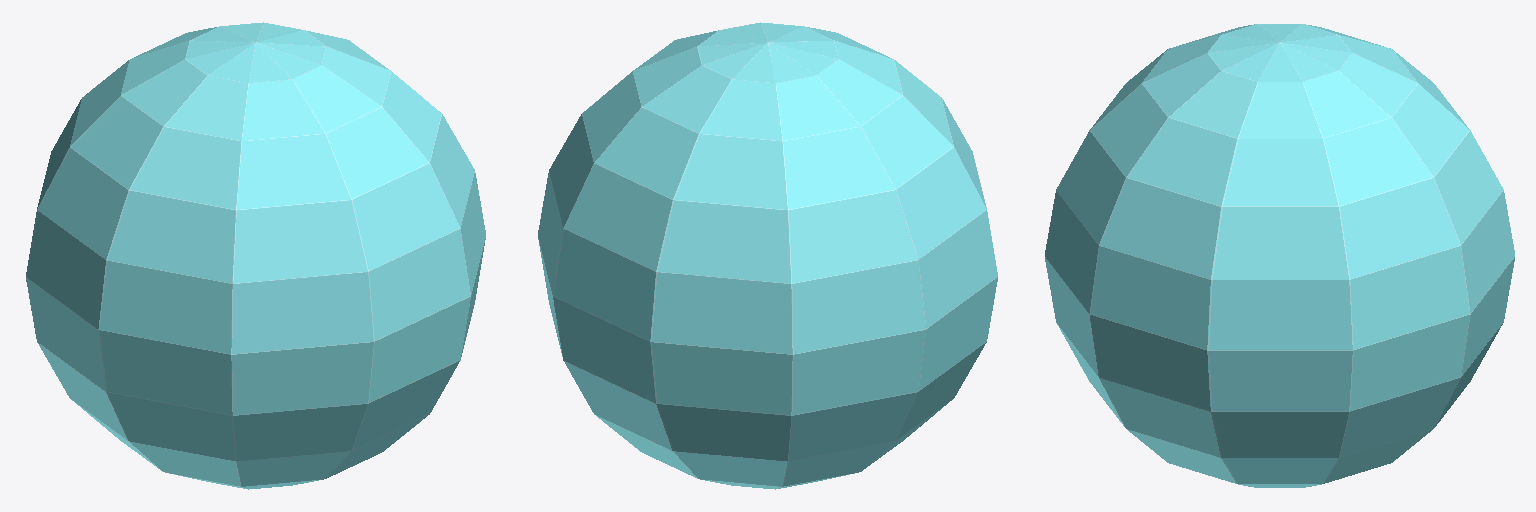
3 views of the same model, side by side, from view 1: azimuth 30°, elevation 25°; view 2: azimuth 150°, elevation 25°; view 3: azimuth 270°, elevation 25° (orthographic).
Parts seen in each view (by area): view 1: pSphere1; view 2: pSphere1; view 3: pSphere1.
Part boxes in pixels (x1,y1,x2,y2): pSphere1: (26, 22, 485, 489); pSphere1: (538, 22, 997, 489); pSphere1: (1045, 24, 1514, 487).
Bounding box in the file's own units: 122 × 128 × 128.
1 materials, 1 textured.